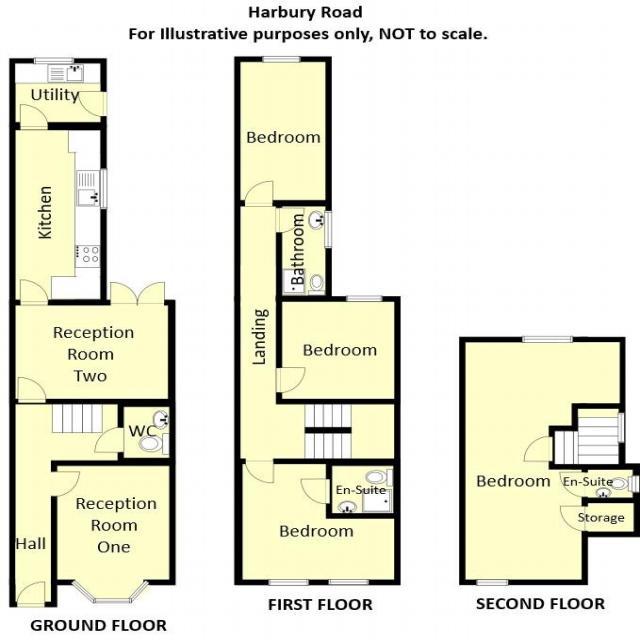DOOR: (109, 280, 166, 306), (522, 435, 555, 463), (299, 477, 332, 505), (275, 366, 307, 394), (244, 179, 275, 207), (93, 426, 124, 454), (18, 103, 50, 130), (17, 376, 47, 404), (18, 278, 49, 305), (77, 90, 107, 117), (559, 471, 588, 498), (275, 207, 305, 233), (51, 471, 81, 497), (16, 581, 46, 607), (244, 459, 275, 484)
ROOM: (459, 336, 626, 586), (9, 278, 176, 407), (233, 458, 401, 585), (9, 103, 108, 306), (51, 458, 176, 604), (234, 56, 332, 207), (276, 296, 401, 405)
WINDOW: (70, 578, 151, 604), (521, 335, 574, 344), (99, 168, 108, 210), (261, 55, 302, 64), (324, 210, 333, 249), (32, 57, 75, 65), (327, 579, 369, 586), (268, 579, 310, 586), (617, 412, 626, 444), (345, 295, 383, 302), (631, 475, 640, 494)
